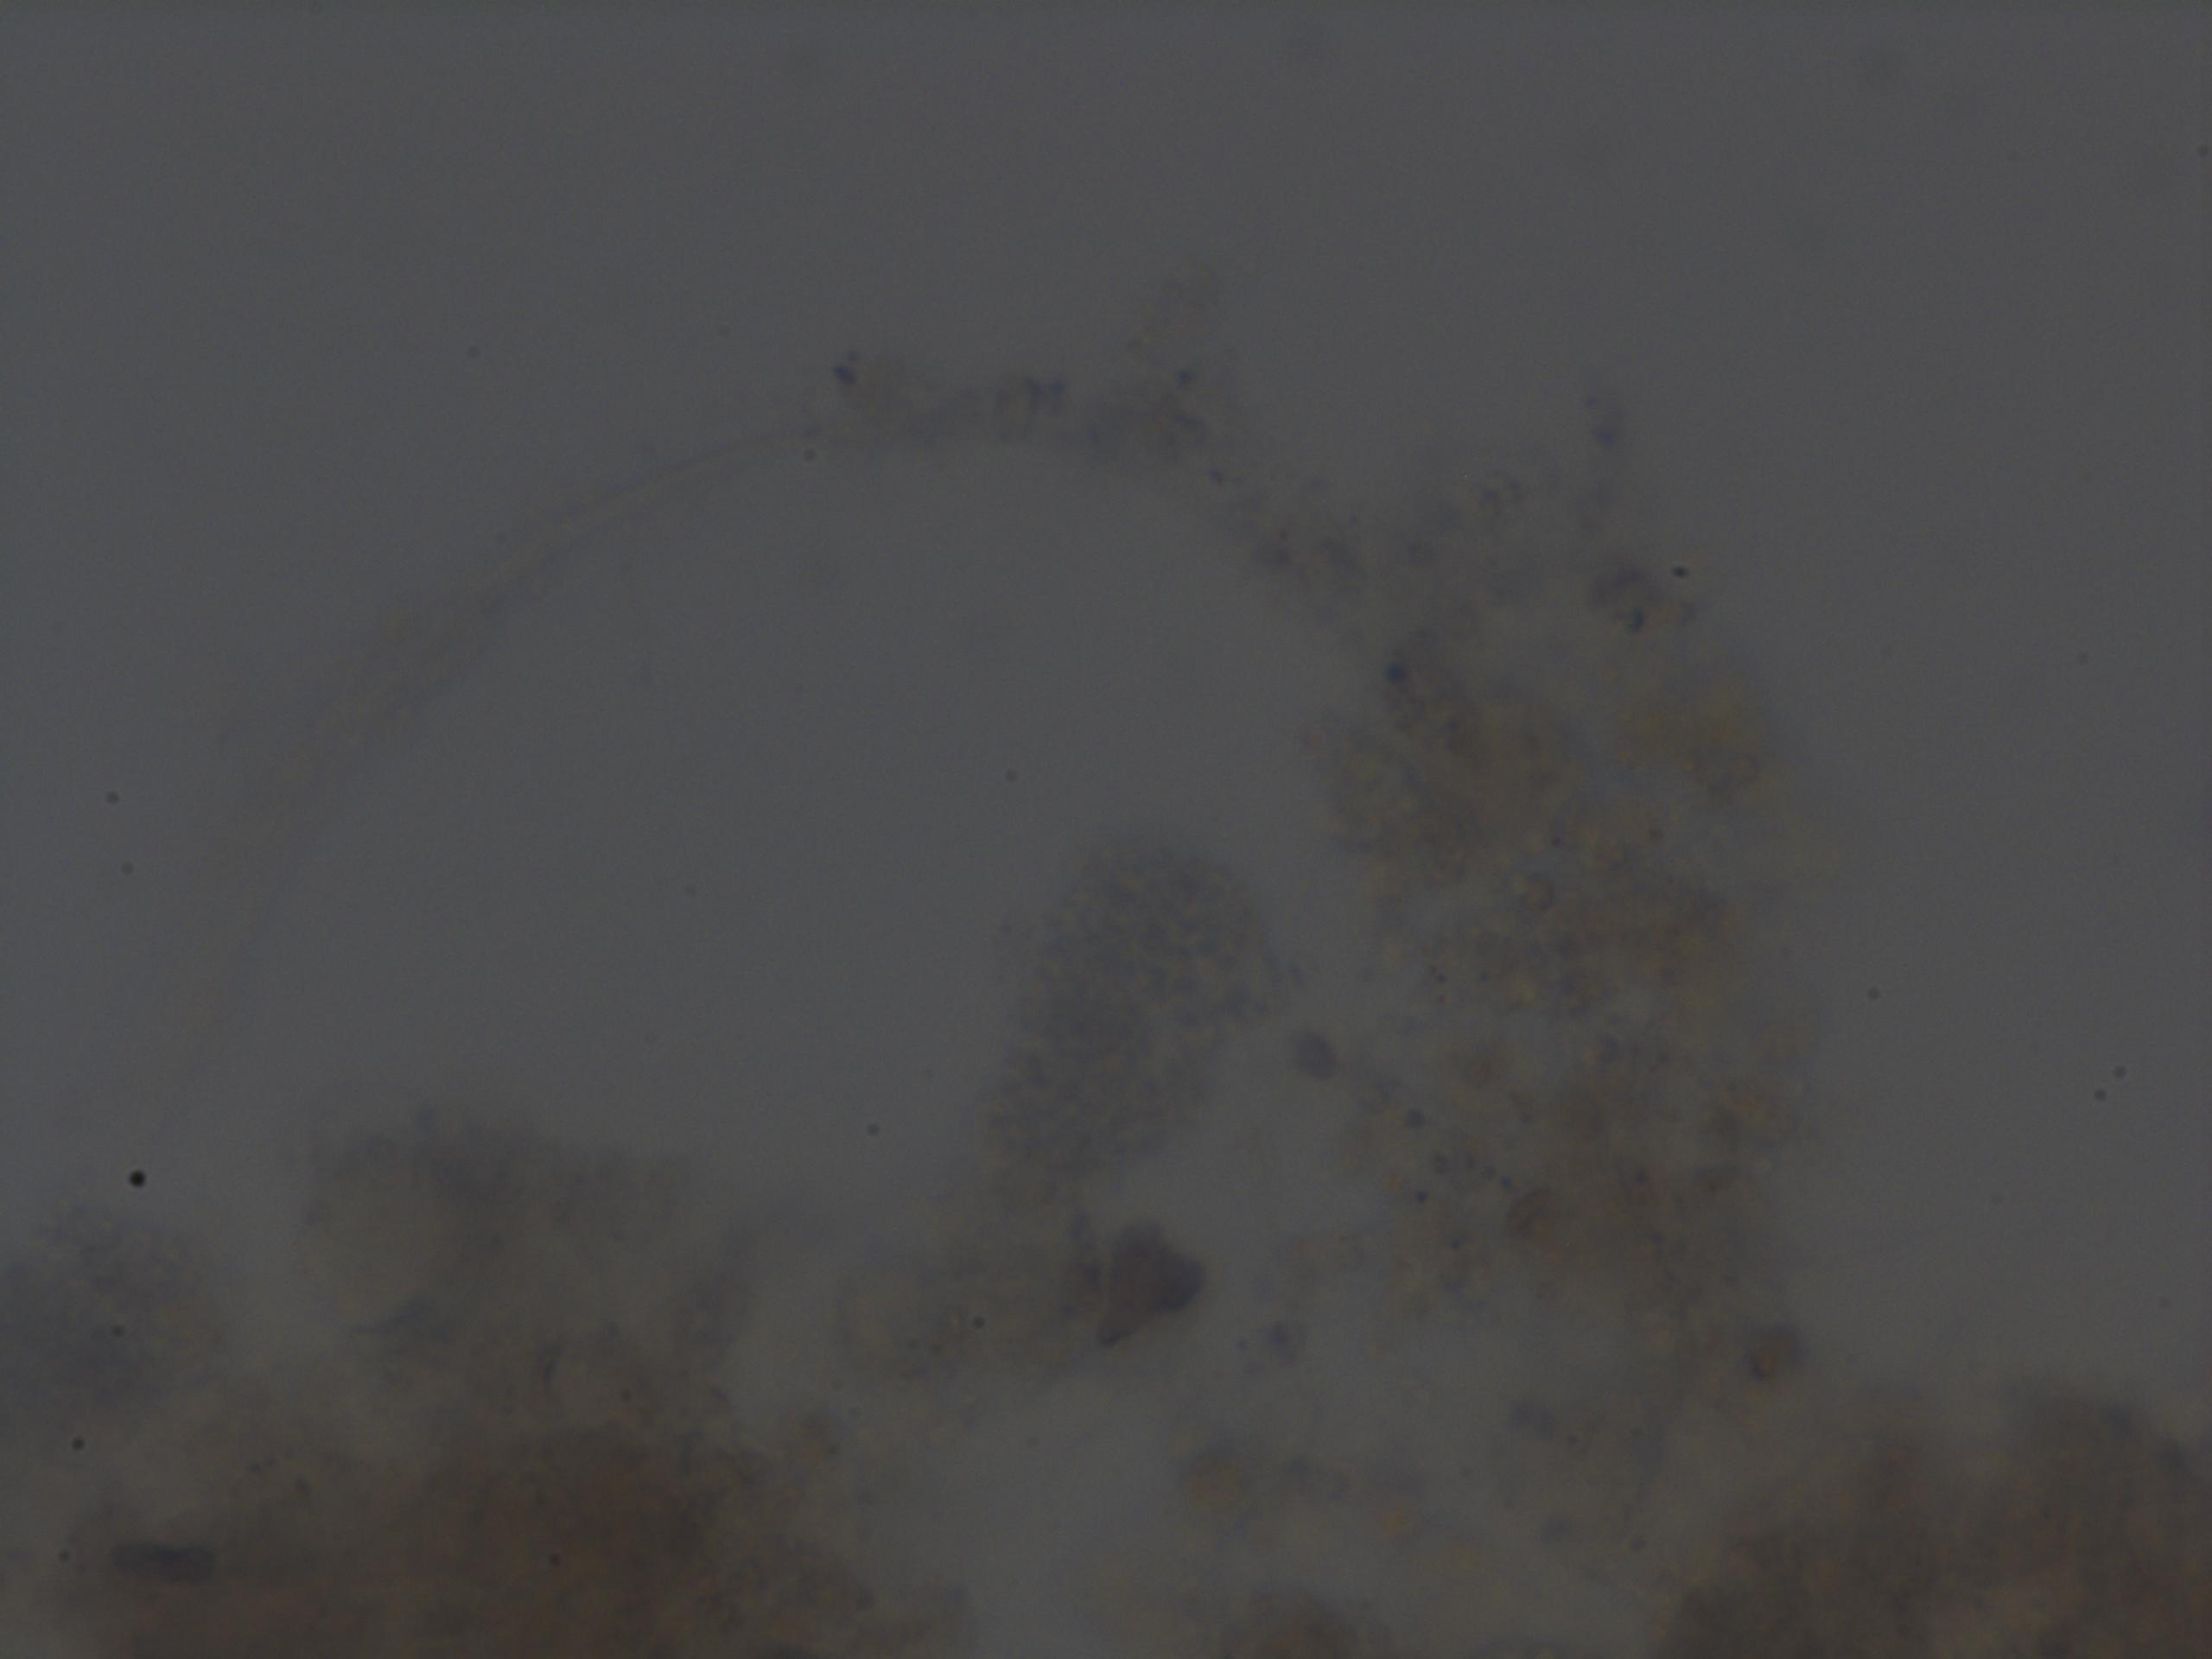filament: (122, 328, 1501, 908)
